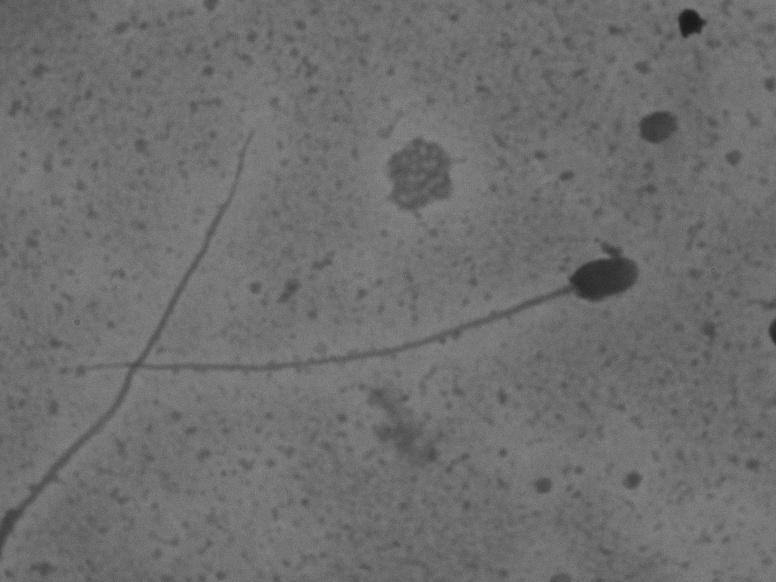Abnormal: (62, 235, 652, 399)
